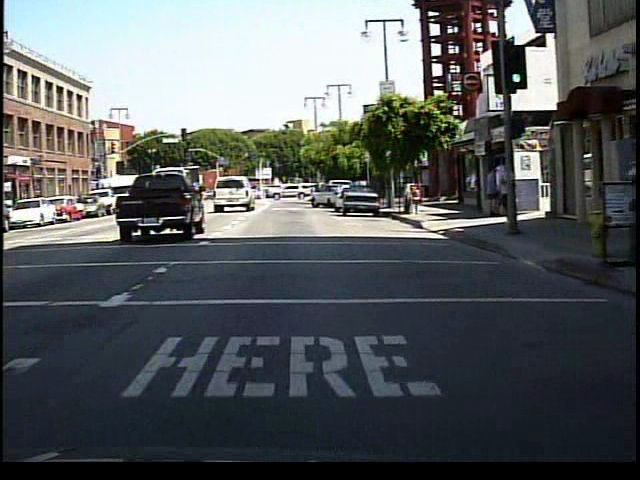person: (614, 145, 639, 270), (494, 157, 519, 228), (483, 166, 499, 220)
